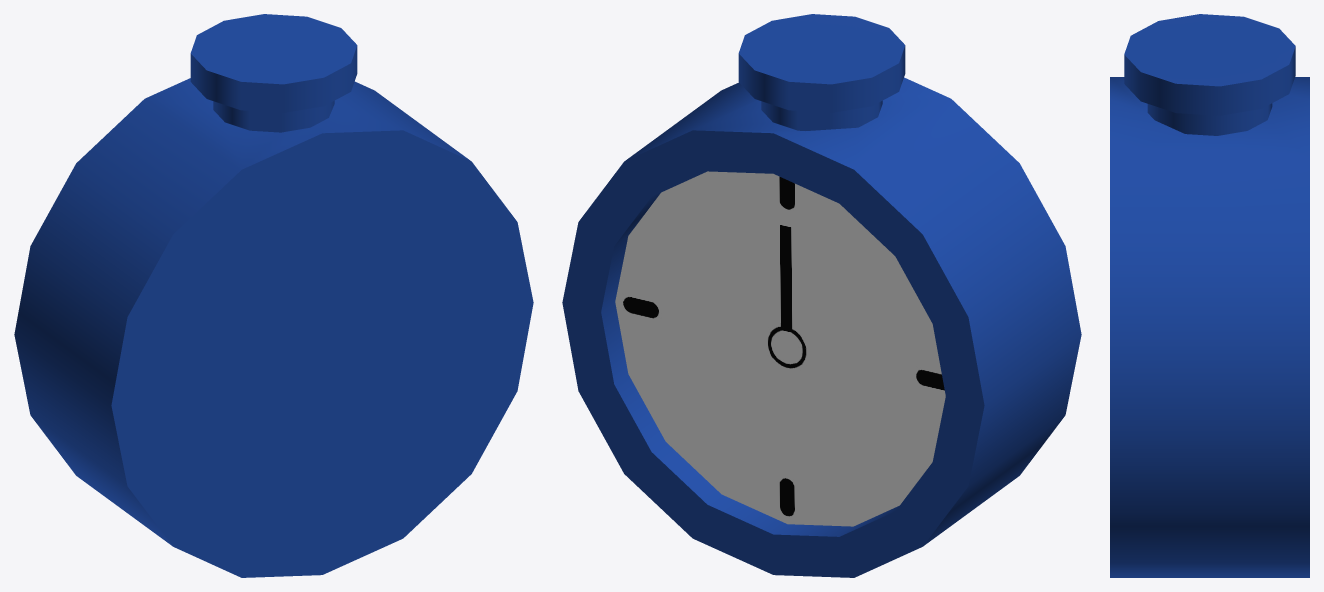
File: OBS0110204.fbx
3 renders of one model, left to right at view 1: azimuth 30°, elevation 25°; view 2: azimuth 150°, elevation 25°; view 3: azimuth 270°, elevation 25°, orthographic. The views are drawn at different scales.
Parts seen in each view (by area): view 1: smOBS0110204; view 2: smOBS0110204; view 3: smOBS0110204.
Part boxes in pixels (left/top/right/bottom): smOBS0110204: left=14, top=14, right=533, bottom=577; smOBS0110204: left=562, top=14, right=1081, bottom=577; smOBS0110204: left=1110, top=14, right=1309, bottom=577.
Size of the model in its own units: 150 by 167 by 59.81.
Materials: 1 (1 with a texture image).
